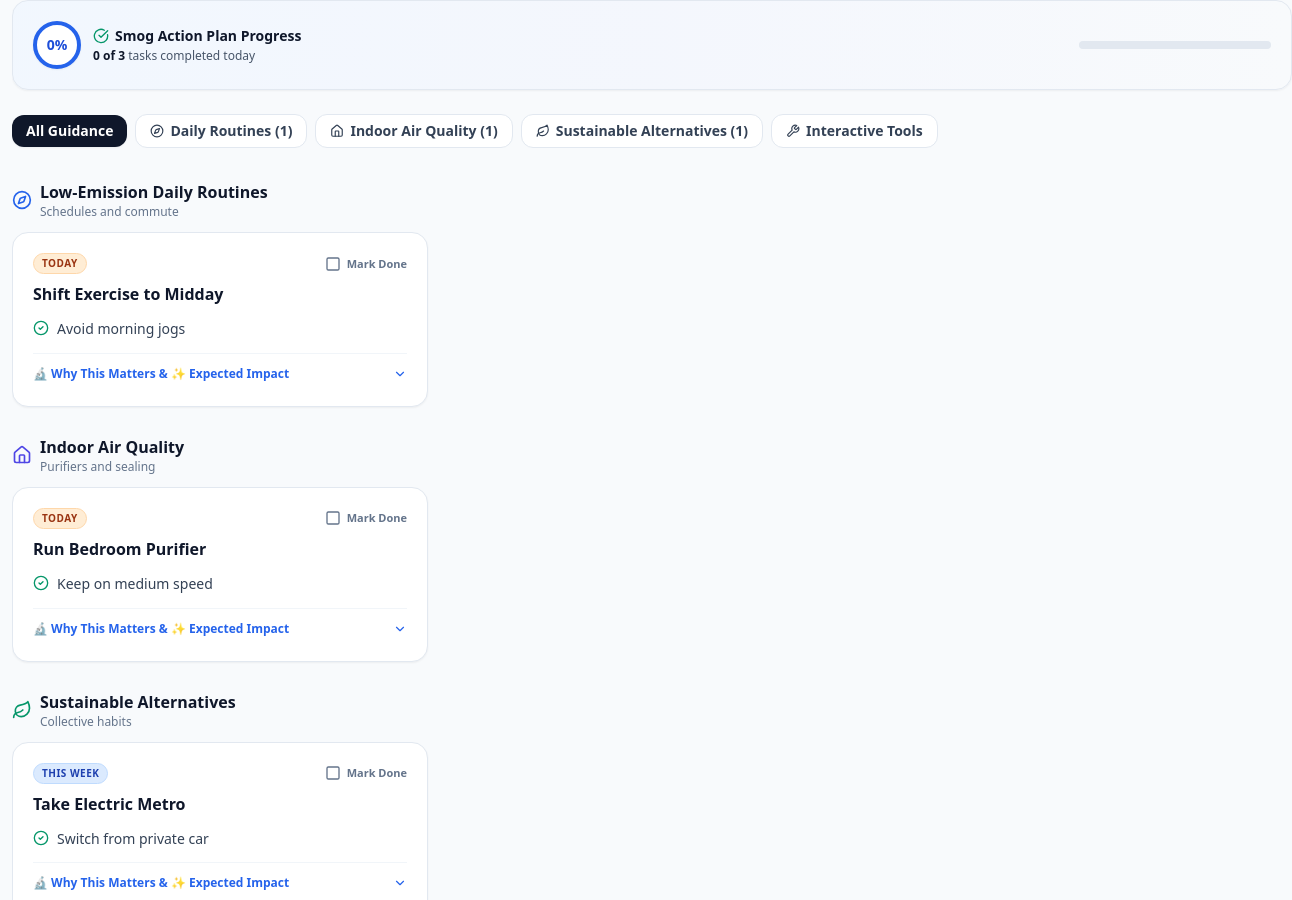
Test: GuidanceSectionView & LocationSearch Component Tests › GuidanceSectionView renders tabs and toggles task completion
The image size is (1292, 900).
Check: the text "Smog Action Plan Progress" is shown, box [115,26,301,46]
Check: the text "0 of 3" is shown, box [93,47,125,64]
Note: Toggle card 1 done
Click the button "Mark Done" below "Schedules and commute": (366, 264) [325,256,407,272]
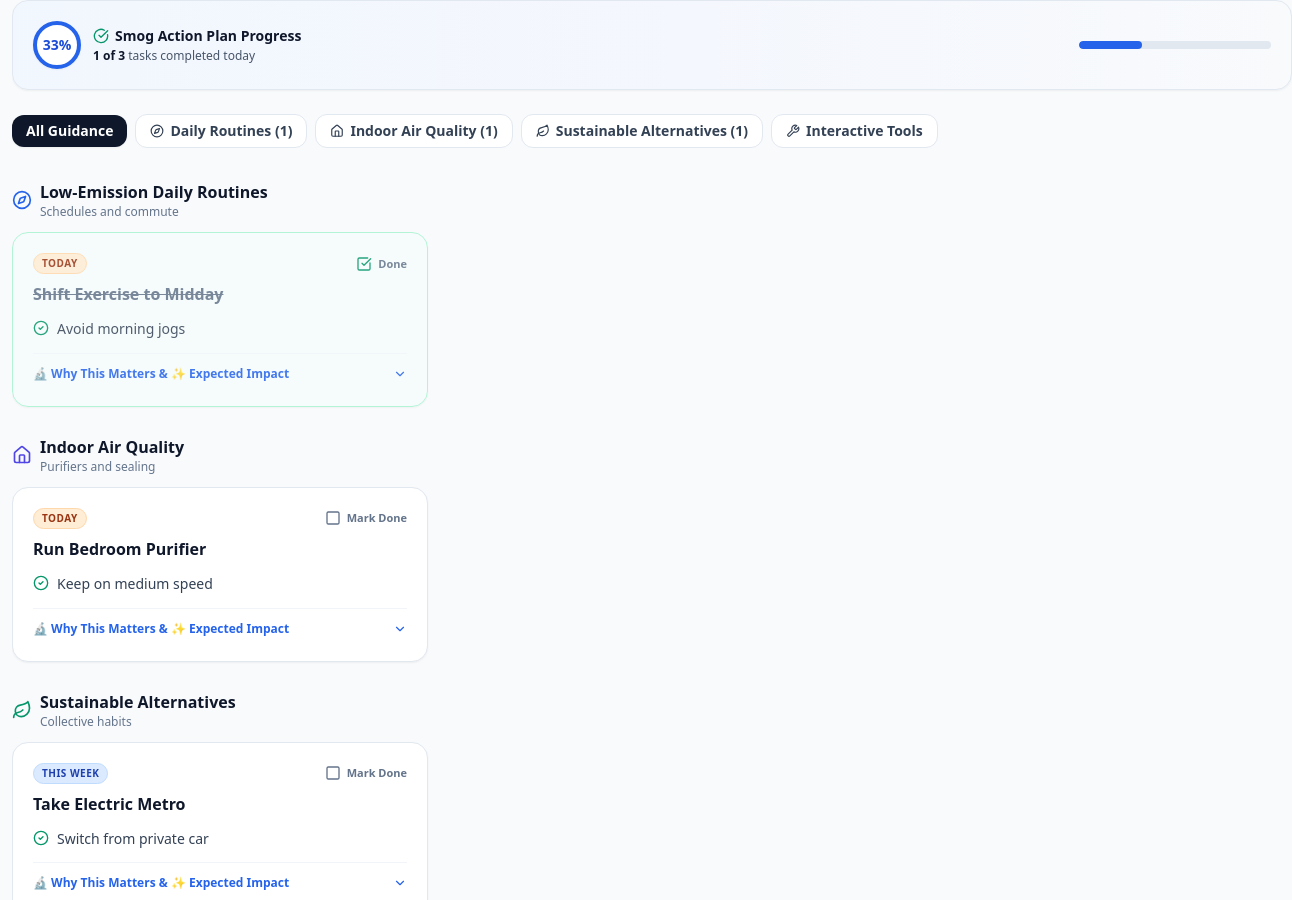
Check: the text "1 of 3" is shown, box [93,47,125,64]
